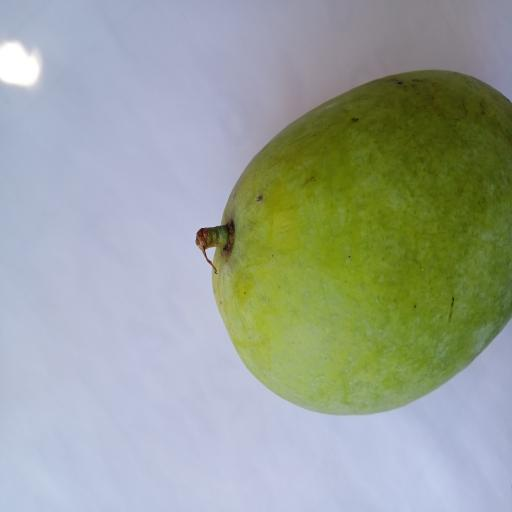mango-unripe: (185, 63, 512, 403)
